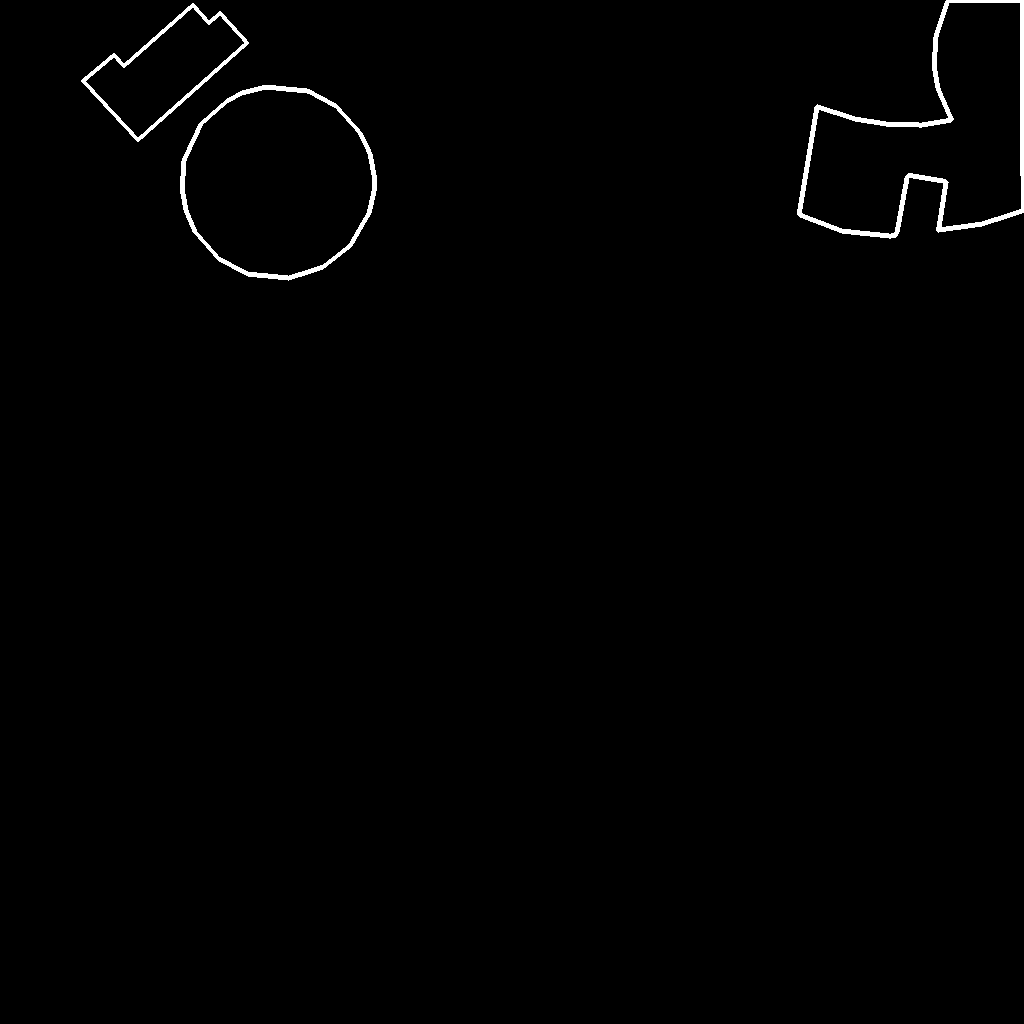building: (799, 0, 1024, 237), (182, 87, 375, 279), (83, 5, 248, 141)
